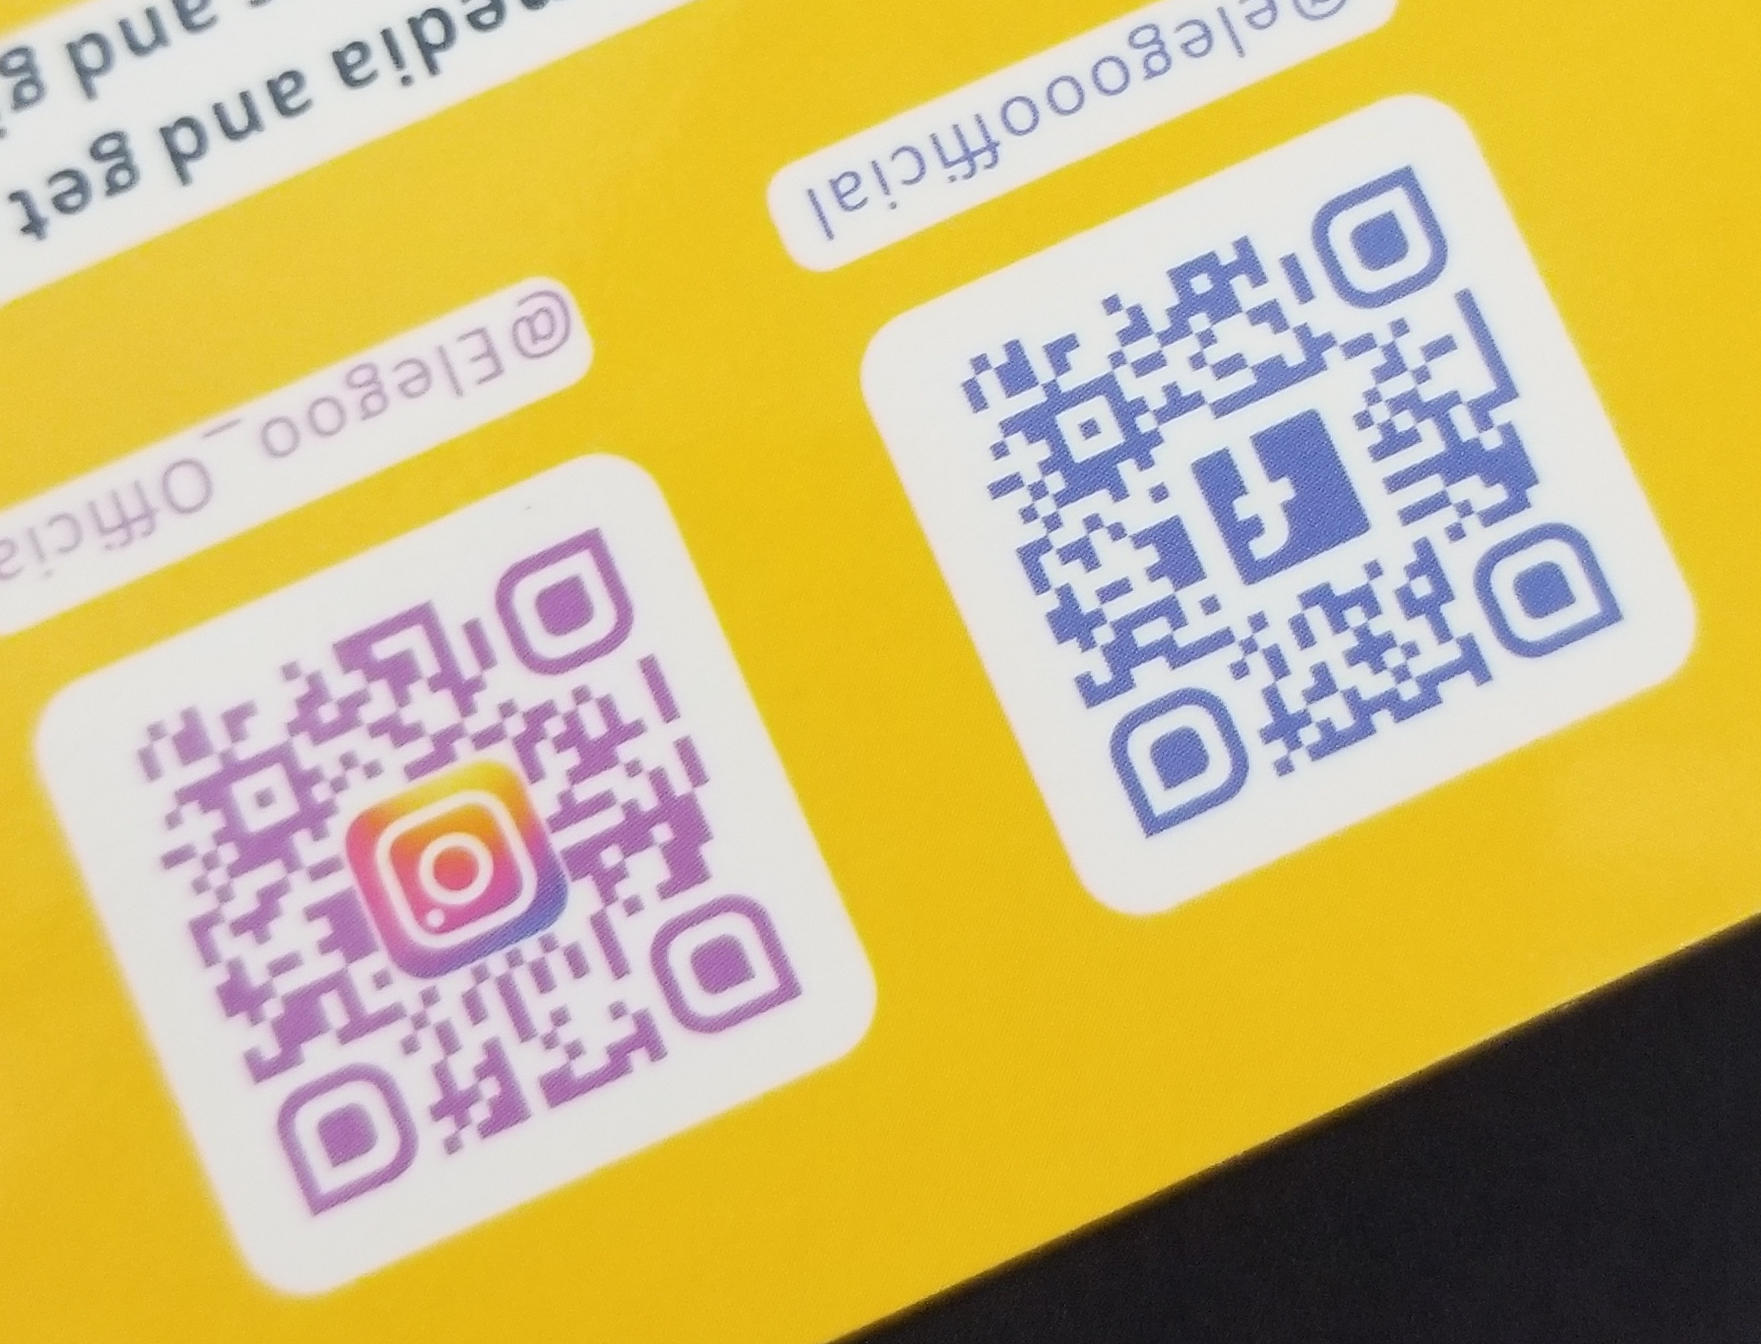QR_CODE: (930, 102, 1641, 863), (104, 494, 823, 1234)
